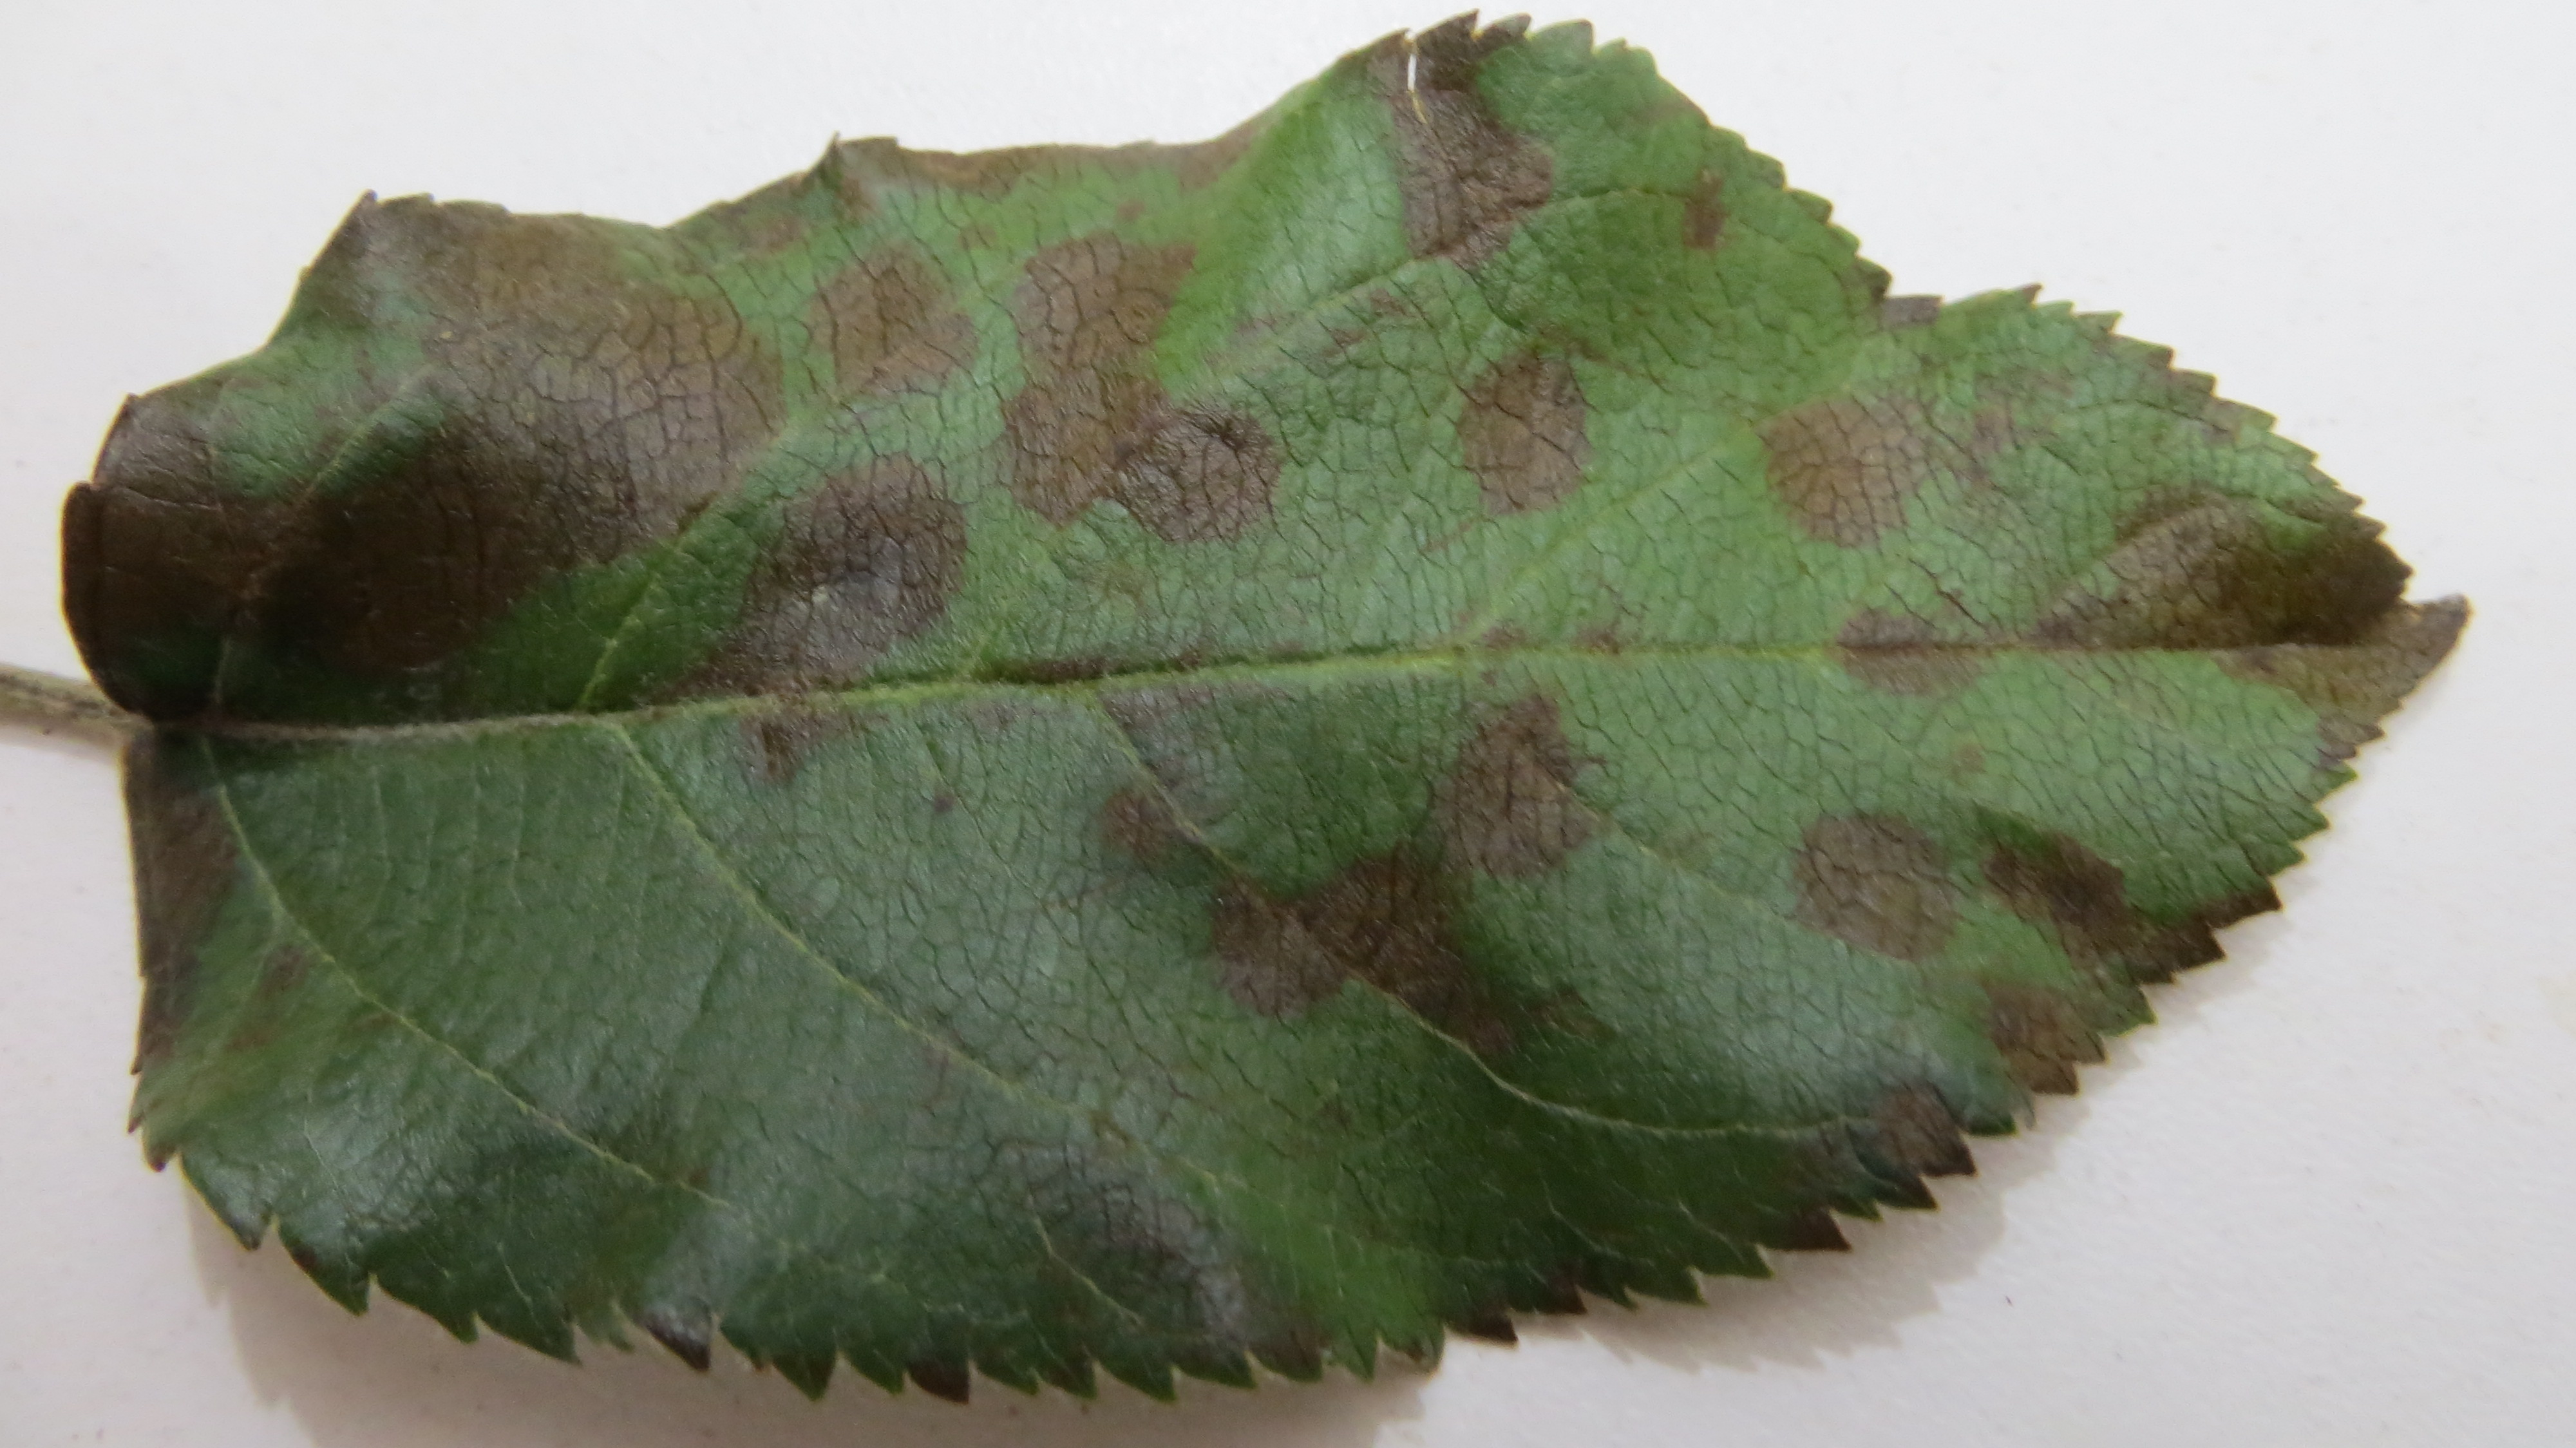sarna: (421, 204, 757, 563), (2059, 478, 2463, 719), (1001, 230, 1290, 558), (713, 450, 993, 781), (1208, 830, 1548, 1073), (62, 391, 294, 653), (1008, 1136, 1276, 1359), (299, 421, 506, 696), (1364, 7, 1559, 260), (104, 736, 249, 1051), (1422, 673, 1606, 887), (794, 227, 996, 414), (1771, 797, 1969, 984), (1980, 802, 2174, 970), (1759, 372, 1932, 556), (1445, 329, 1603, 522), (1805, 1053, 1973, 1197), (1116, 659, 1254, 814), (1821, 586, 1990, 706), (1976, 959, 2102, 1119), (295, 195, 430, 338), (812, 124, 977, 234), (1092, 777, 1192, 887), (1660, 140, 1736, 269)
